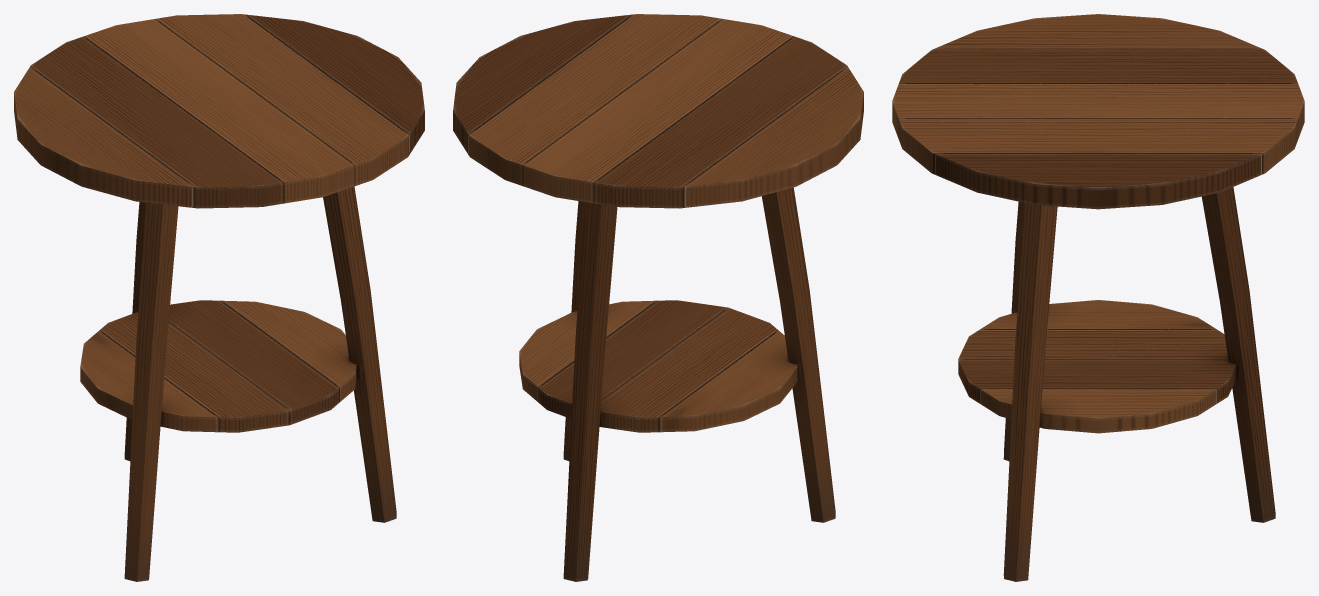
The model's file is Side_Table_01.glb.
3 renders of one model, left to right at view 1: azimuth 30°, elevation 25°; view 2: azimuth 150°, elevation 25°; view 3: azimuth 270°, elevation 25°, orthographic.
Visible parts, largest first — view 1: Side_Table_01; view 2: Side_Table_01; view 3: Side_Table_01.
Part boxes in pixels (x1,y1,x2,y2): Side_Table_01: (14, 14, 424, 581); Side_Table_01: (453, 14, 863, 581); Side_Table_01: (892, 14, 1304, 581).
Bounding box in the file's own units: 0.5 × 0.5577 × 0.5.
Materials: 1 (1 with a texture image).
